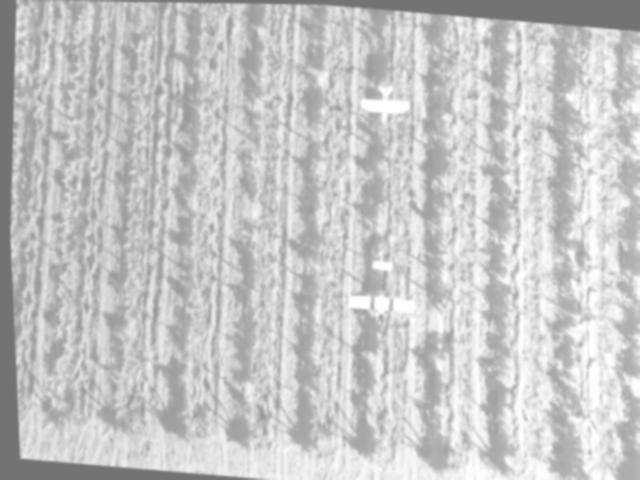hedef: (331, 251, 424, 344), (356, 74, 416, 134)
